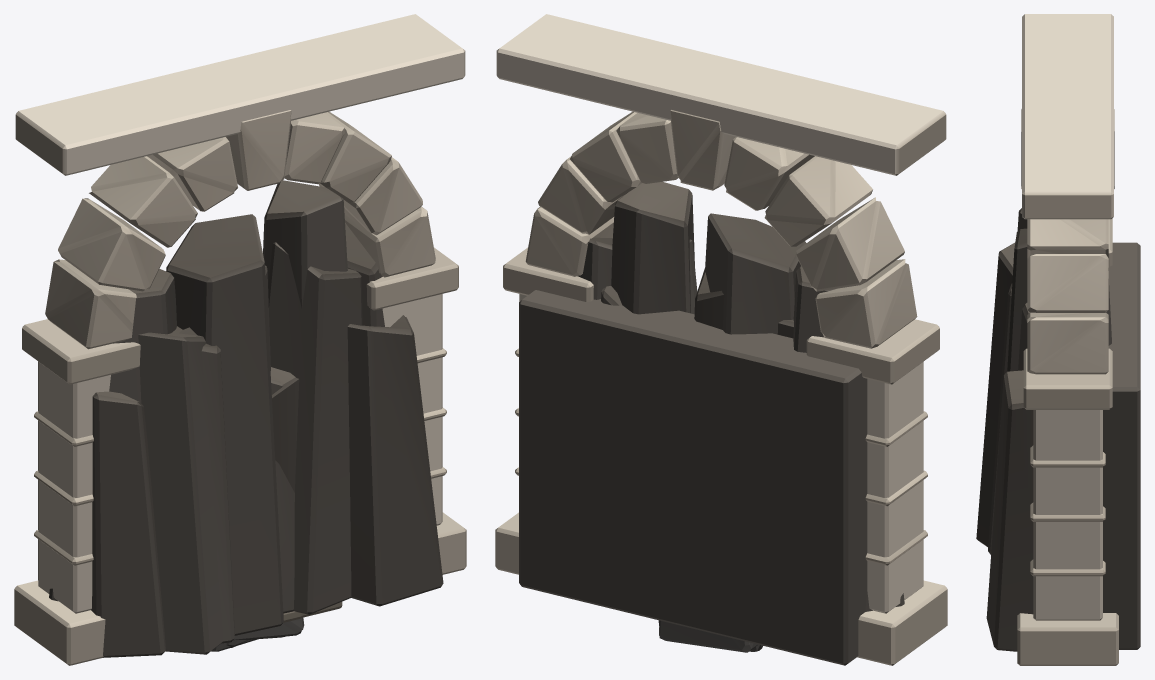
Rendered from grotto-kit.glb.
The picture shows the model from 3 angles, left to right: view 1: azimuth 30°, elevation 25°; view 2: azimuth 150°, elevation 25°; view 3: azimuth 270°, elevation 25°; orthographic projection. The views are drawn at different scales.
Visible parts, largest first — view 1: gate, wall_2, wall_1, wall_0, rock_1; view 2: wall_0, gate, wall_1, wall_2, rock_0; view 3: gate, wall_0, wall_2, wall_1.
Part boxes in pixels (box(x1,y1,x2,y2)): gate: box(14, 14, 466, 665); wall_2: box(109, 242, 443, 614); wall_1: box(91, 180, 384, 657); wall_0: box(38, 214, 299, 656); rock_1: box(233, 617, 304, 640); wall_0: box(519, 213, 904, 665); gate: box(495, 14, 947, 665); wall_1: box(577, 181, 793, 338); wall_2: box(689, 239, 836, 352); rock_0: box(659, 620, 757, 652); gate: box(1017, 14, 1118, 665); wall_0: box(988, 228, 1140, 649); wall_2: box(986, 208, 1108, 651); wall_1: box(976, 242, 1111, 546).
Size of the model in its own units: 4.4 by 5.78 by 1.7.
